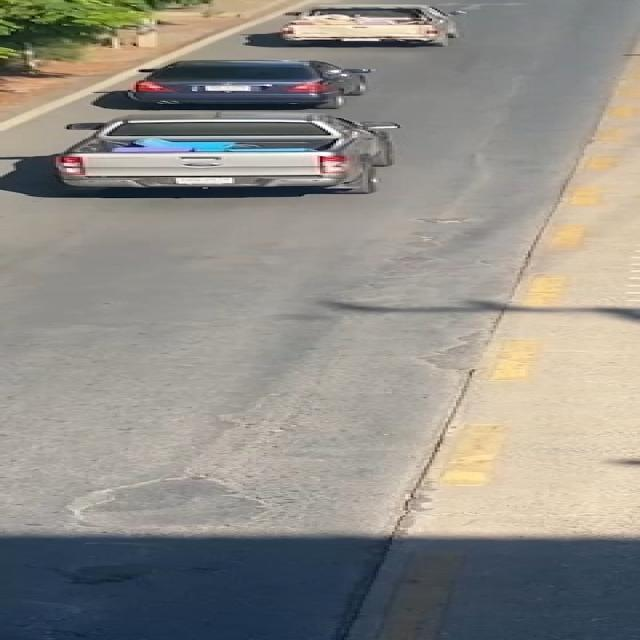car: (12, 115, 430, 202), (91, 53, 423, 114), (236, 0, 491, 52)
